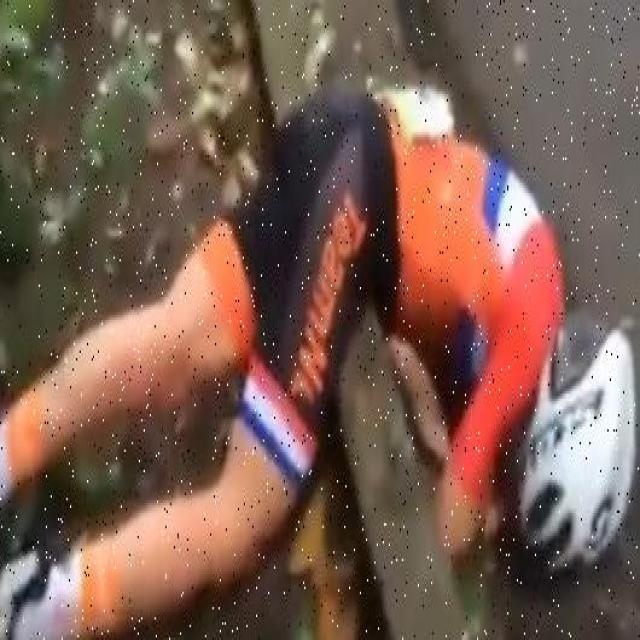fall: (0, 63, 632, 610)
